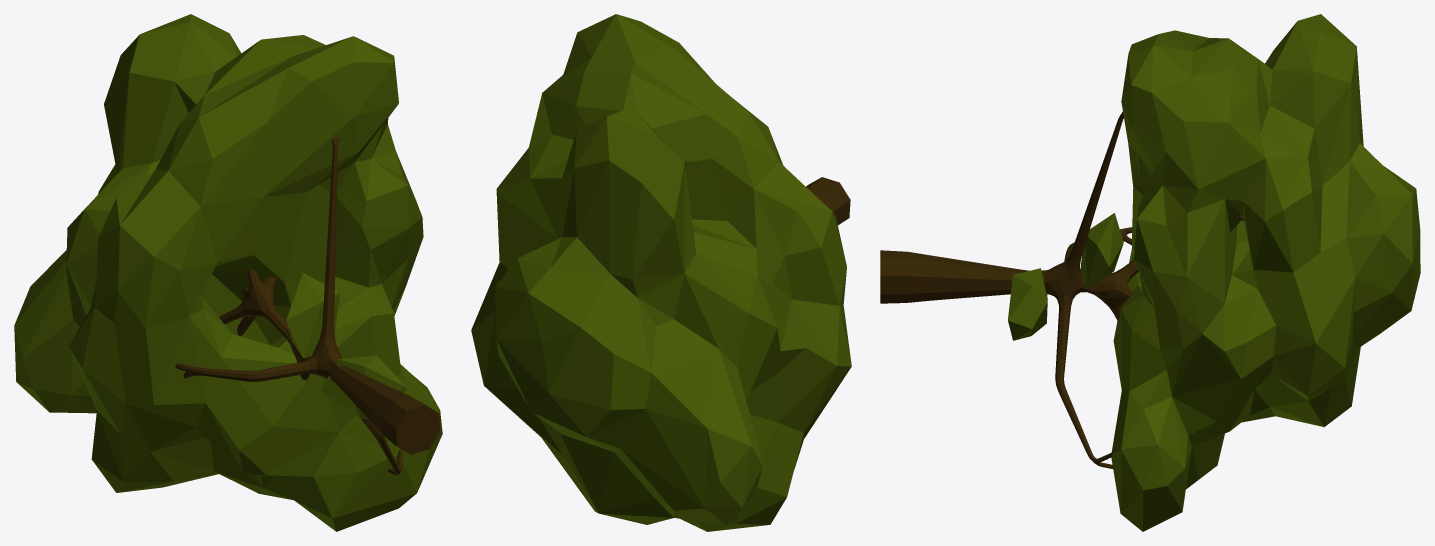
The model's file is Tree_varient_2_v011(UV_Unwrapped).fbx.
3 views of the same model, side by side, from view 1: azimuth 30°, elevation 25°; view 2: azimuth 150°, elevation 25°; view 3: azimuth 270°, elevation 25° (orthographic). The views are drawn at different scales.
Parts seen in each view (by area): view 1: Tree_Varient_2; view 2: Tree_Varient_2; view 3: Tree_Varient_2.
Part boxes in pixels (x1,y1,x2,y2): Tree_Varient_2: (14,14,442,531); Tree_Varient_2: (471,14,851,531); Tree_Varient_2: (880,14,1420,531).
Size of the model in its own units: 467 by 641 by 660.
